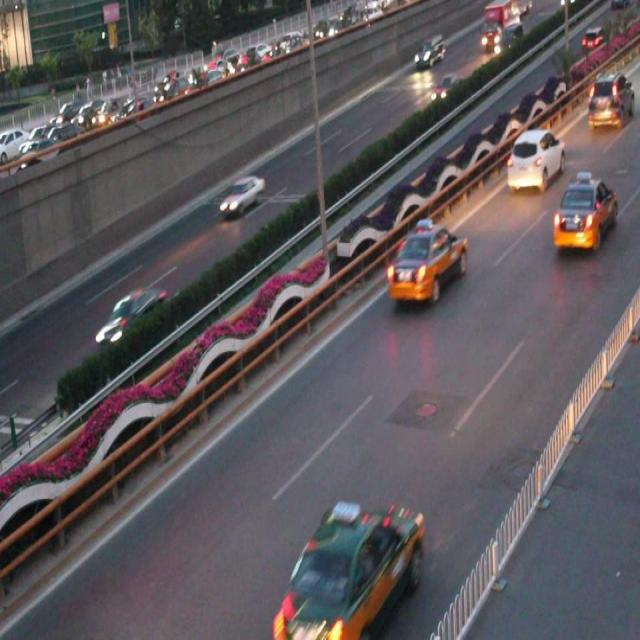car: (277, 499, 421, 640), (385, 218, 465, 305), (552, 174, 616, 252), (95, 287, 166, 351), (504, 125, 563, 193), (219, 174, 264, 216), (428, 73, 462, 105)
